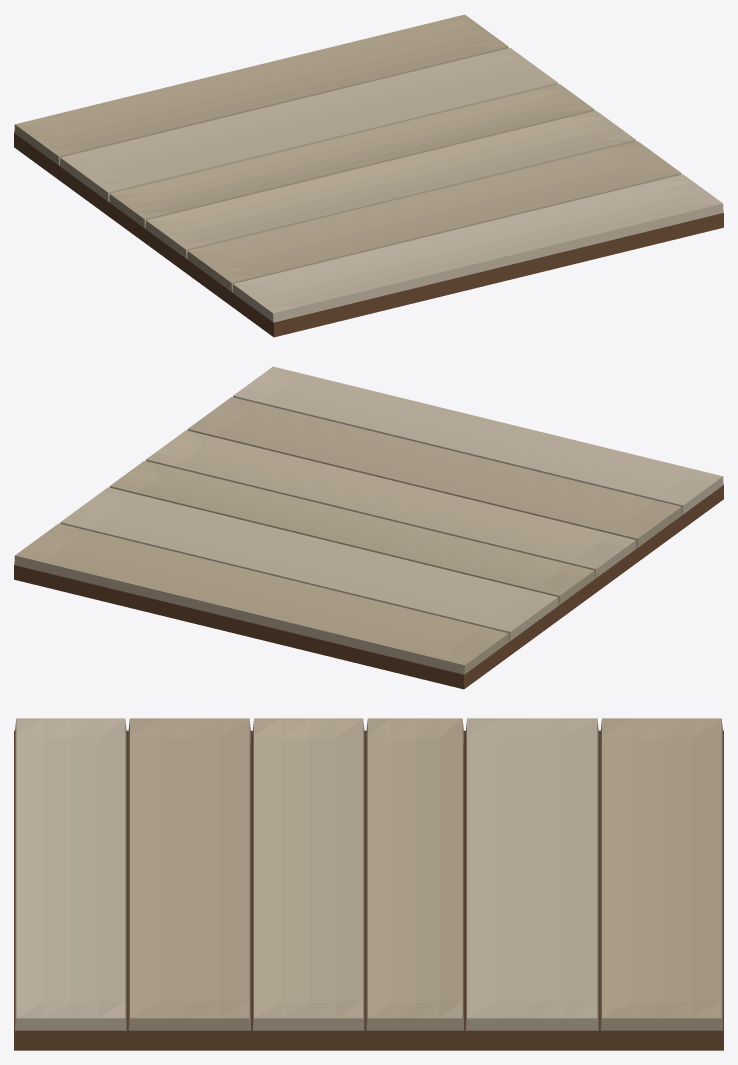
The model's file is oak-plank-floor-tile-70ee12.glb.
3 views of the same model, one above another, from view 1: azimuth 30°, elevation 25°; view 2: azimuth 150°, elevation 25°; view 3: azimuth 270°, elevation 25° (orthographic). The views are drawn at different scales.
Visible parts, largest first — view 1: floor-slab; view 2: floor-slab; view 3: floor-slab.
Part boxes in pixels (<box>): floor-slab: <box>14,14,723,337</box>; floor-slab: <box>14,366,723,689</box>; floor-slab: <box>14,718,723,1050</box>.
Size of the model in its own units: 1 by 0.05 by 1.
